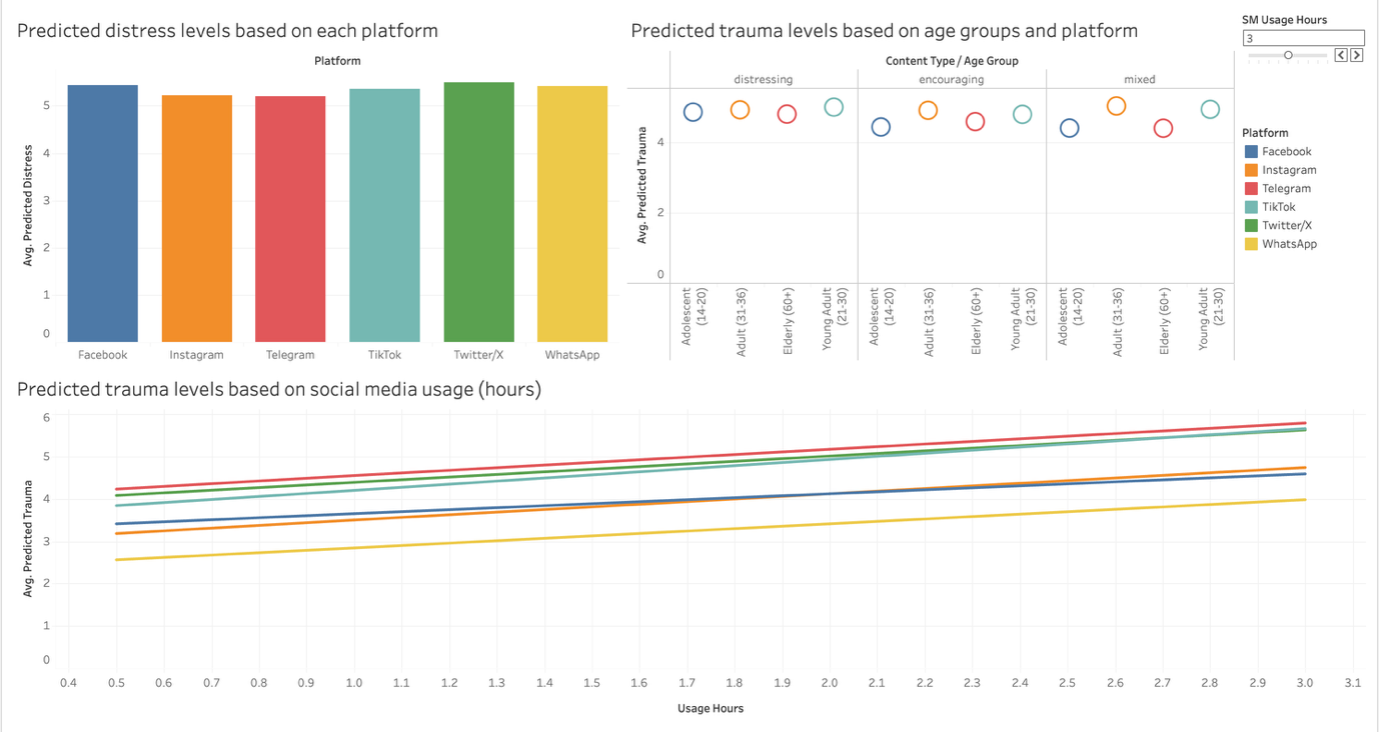

The page's visual inventory and layout, read from the dashboard file:
{"tool":"tableau","page":{"name":"Dashboard 1","canvas":[1000,1000],"units":"permille","ordinal":0},"visuals":[{"type":"worksheet","title":"Sheet 1","mark":"Automatic","rows":["Predicted_Distress"],"cols":["Platform"],"box":[5.4,10.1,446.8,489.8]},{"type":"worksheet","title":"Sheet 2","mark":"Shape","rows":["Predicted_Trauma"],"cols":["Content_Type","Age_Group"],"box":[452.2,10.1,447,489.8]},{"type":"parameter","param":"[Parameters].[Parameter 1]","box":[899.1,10.1,95.5,155.3]},{"type":"legend","title":"Sheet 3","param":"[federated.0olk91q0y0rewf120pcfh147w7zp].[none:Platform:nk]","box":[899.1,165.4,95.5,185.6]},{"type":"worksheet","title":"Sheet 3","mark":"Line","rows":["Predicted_Trauma"],"cols":["Usage_Hours"],"box":[5.4,499.9,989.2,490]}]}

Visuals, with their boxes on the dashboard's canvas, which has no fixed pixel size, in thousandths of its width and height (x1, y1, x2, y2). These are canvas units, not pixel positions in the 1384x736 screenshot, which may show the page scaled, cropped or inside an application window:
"Sheet 1" worksheet: 5, 10, 452, 500
"Sheet 2" worksheet (Shape marks): 452, 10, 899, 500
parameter: 899, 10, 995, 165
"Sheet 3" legend: 899, 165, 995, 351
"Sheet 3" worksheet (Line marks): 5, 500, 995, 990
